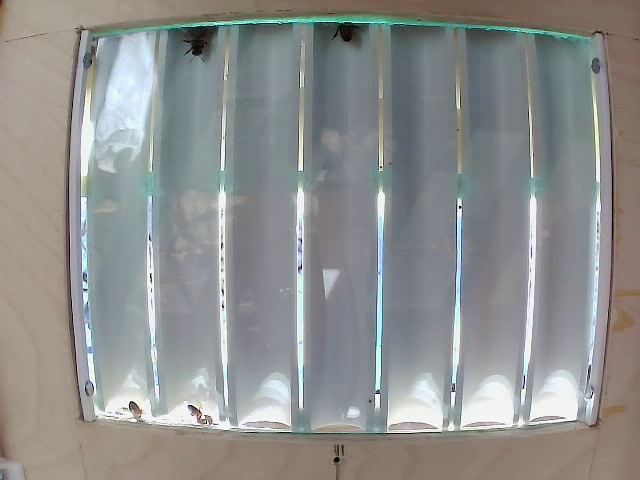bee: (182, 13, 234, 83)
